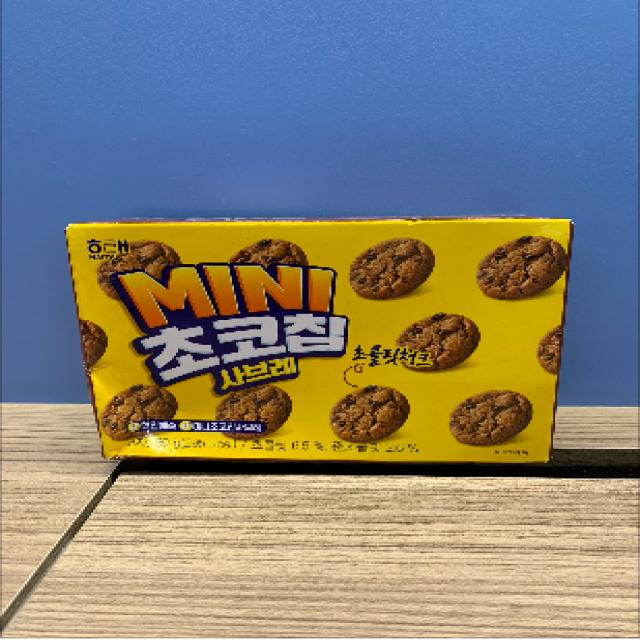object_name: (83, 224, 561, 464)
